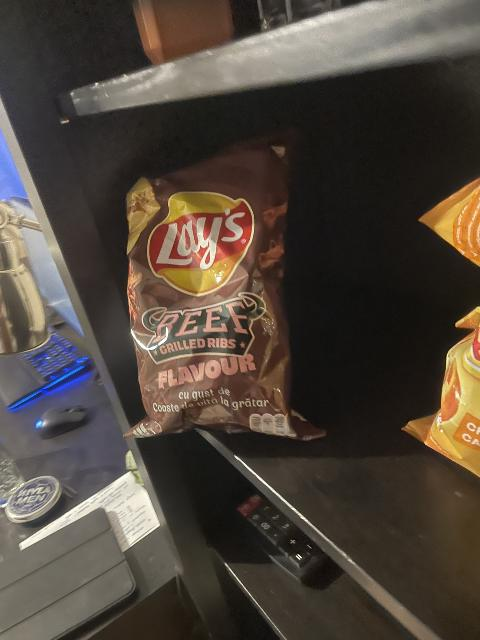Chio Hula Hoops Cheese 70g: (403, 172, 480, 491)
Lays Beef Grilled Ribs 125g: (125, 145, 334, 434)
